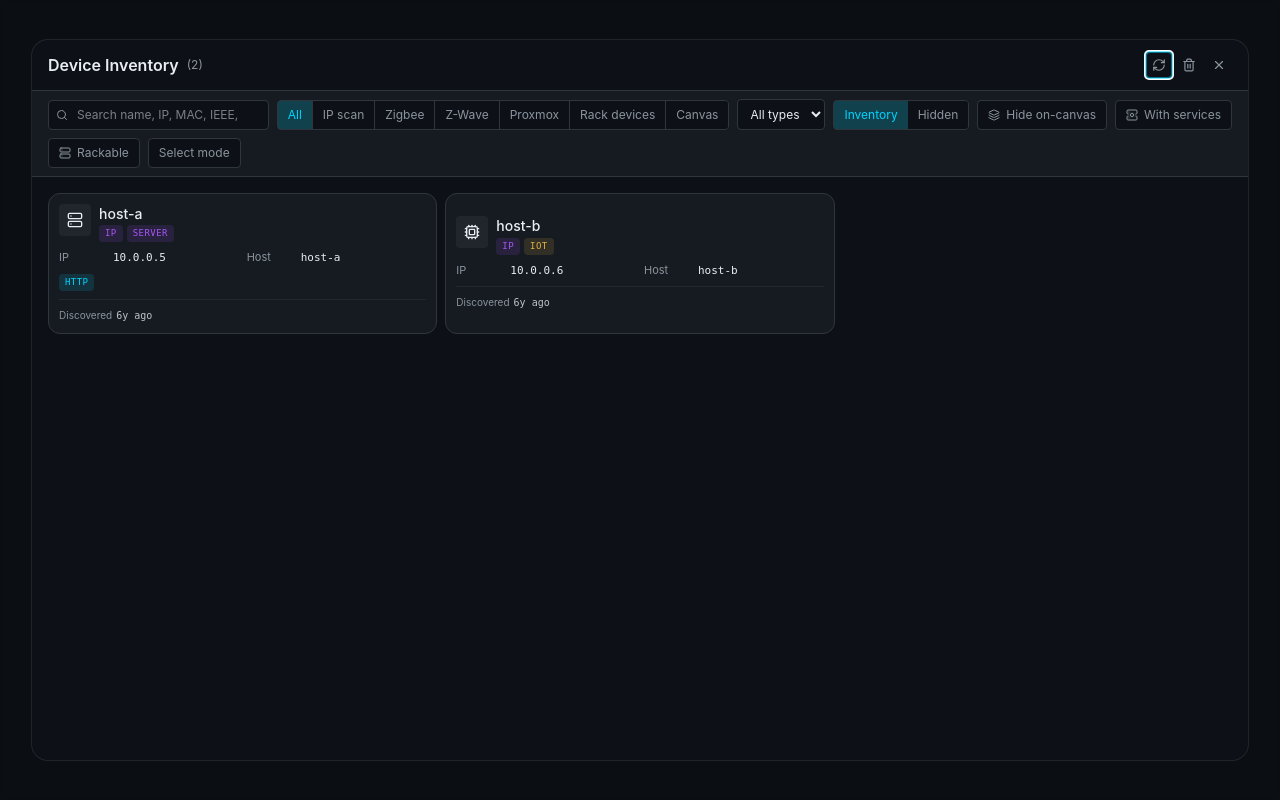
PendingDevicesModal — Device Inventory › filters to devices with detected services when "With services" is on
Expected: the button with test id "pending-card-dev-b" is shown, [445,193,835,334]
Click the button "With services" at (1174, 114), box [1115,100,1232,130]
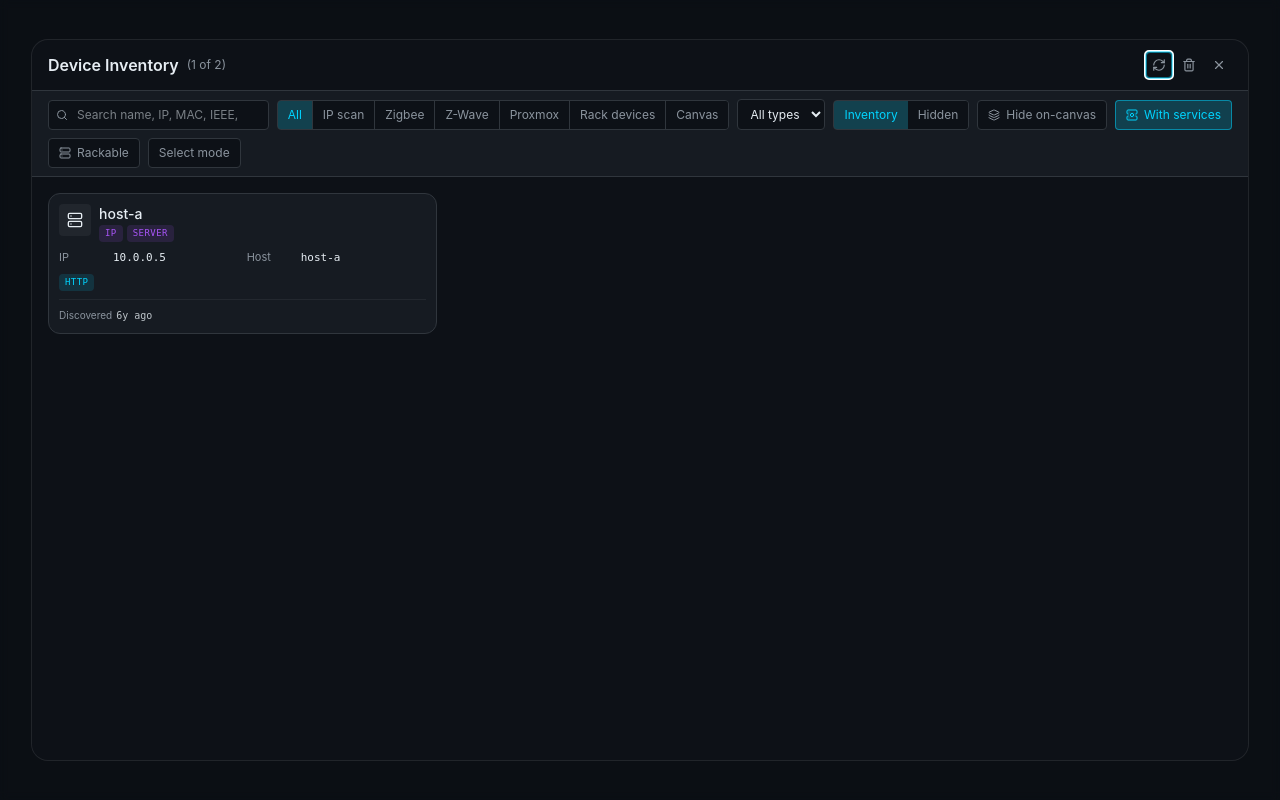
Expected: the button with test id "pending-card-dev-a" is shown, [48,193,437,334]
Expected: the button with test id "pending-card-dev-b" is gone
